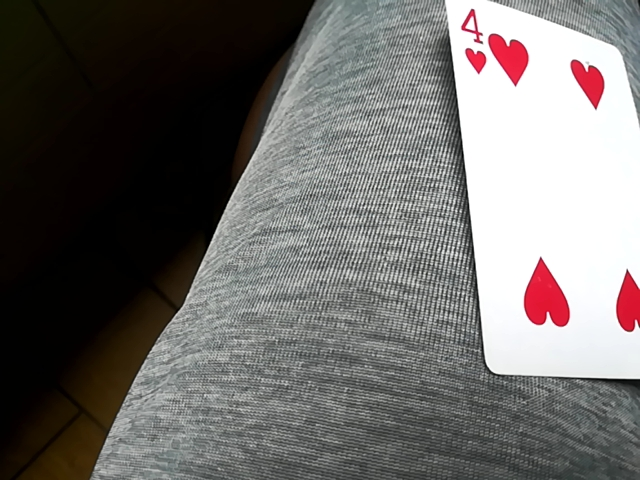hx 4: (441, 1, 637, 385)
